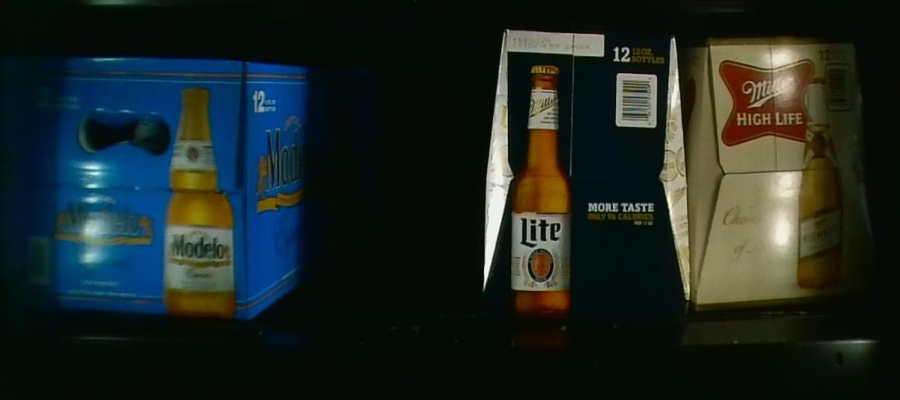bottle: (1, 60, 300, 310), (483, 25, 688, 322), (691, 37, 880, 311)
